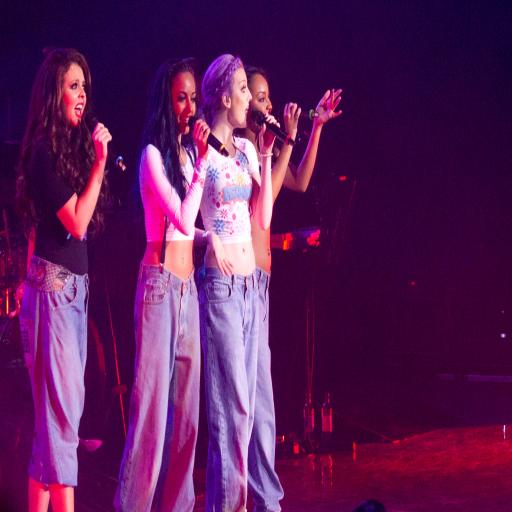Person: (10, 107, 104, 427), (253, 104, 347, 424), (201, 104, 295, 424), (107, 109, 200, 429)
no_gloves: (314, 135, 348, 178), (86, 161, 120, 204), (249, 153, 283, 195), (276, 148, 310, 190), (186, 162, 220, 204)
no_goggle: (223, 137, 261, 154), (164, 139, 202, 155), (53, 135, 91, 151), (248, 141, 286, 157)
no_helmet: (242, 123, 296, 142), (151, 121, 205, 139), (38, 116, 92, 134), (201, 121, 254, 139)
none: (32, 177, 98, 275), (136, 178, 202, 276), (196, 175, 260, 273)
